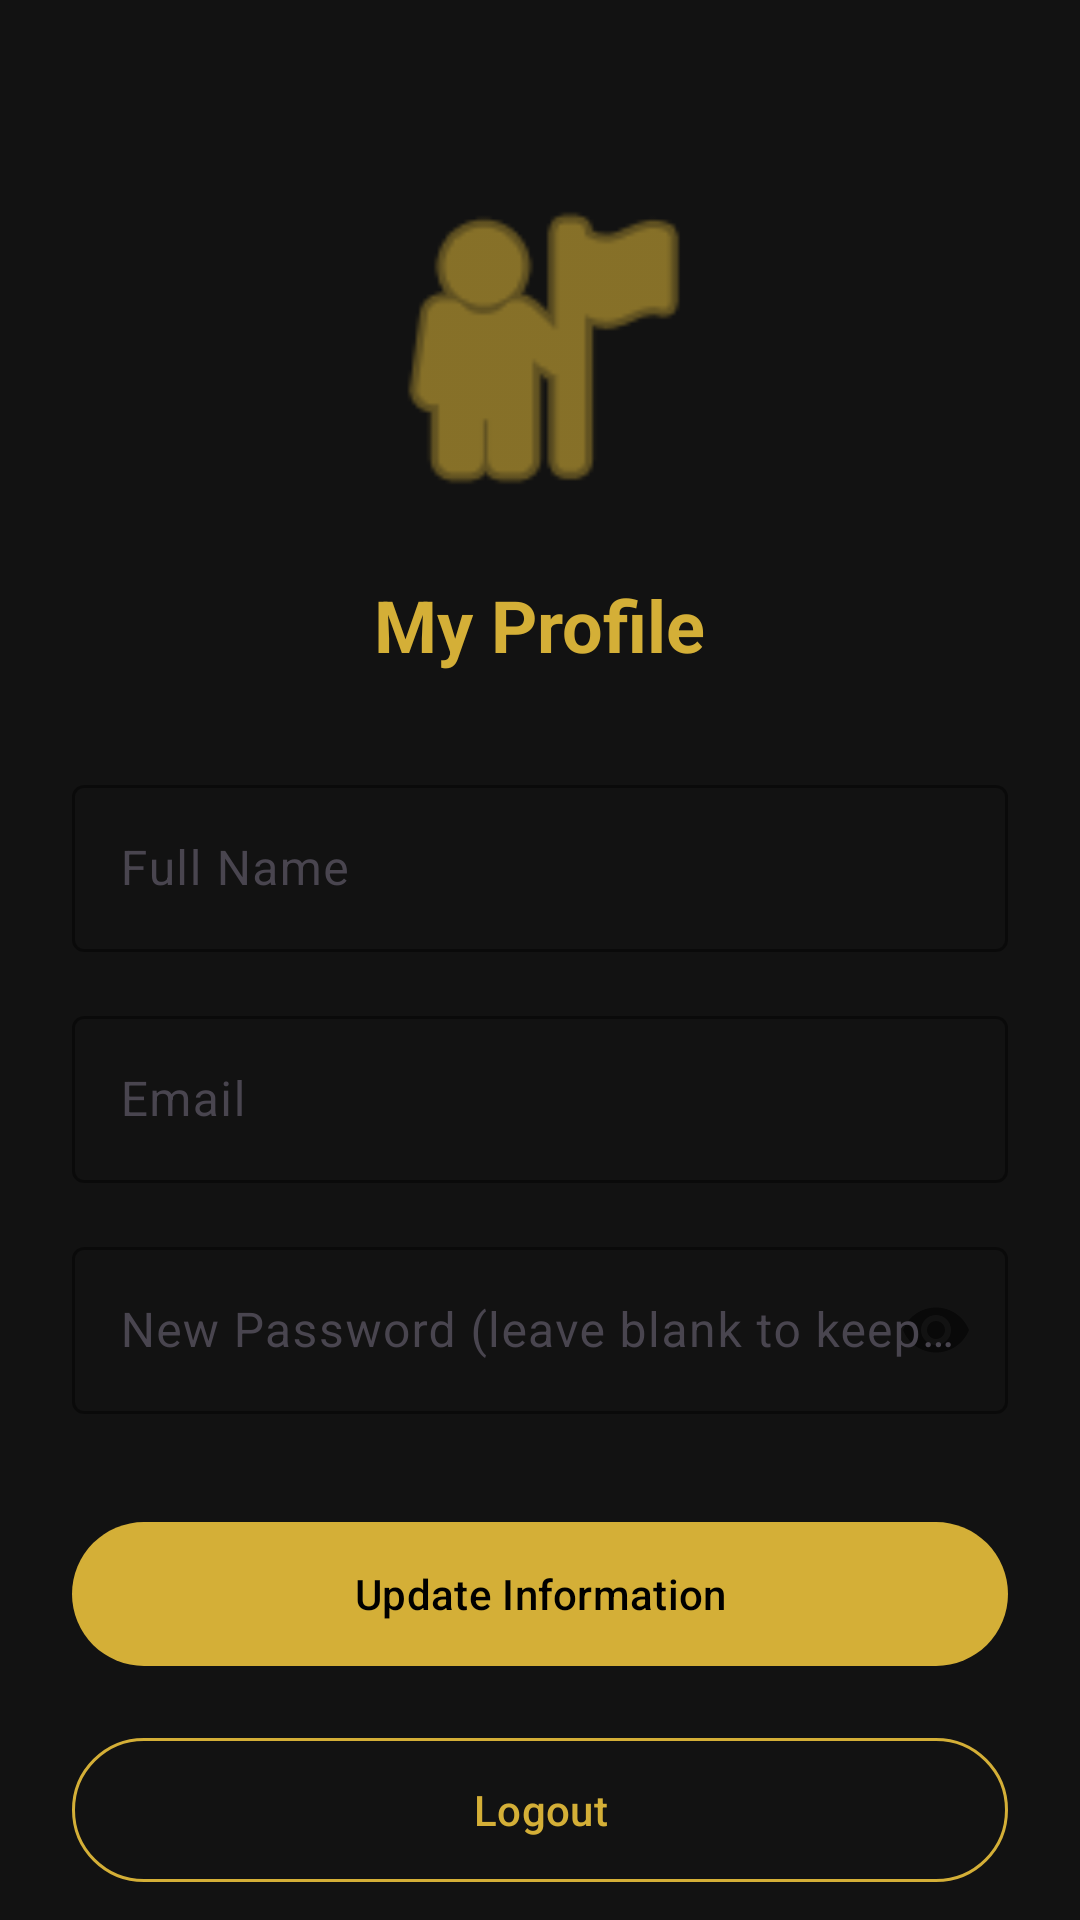

Icons on this 1080×1920 Android screen, each with the point to tap as point (x, y):
myplaces: point (544, 348)
